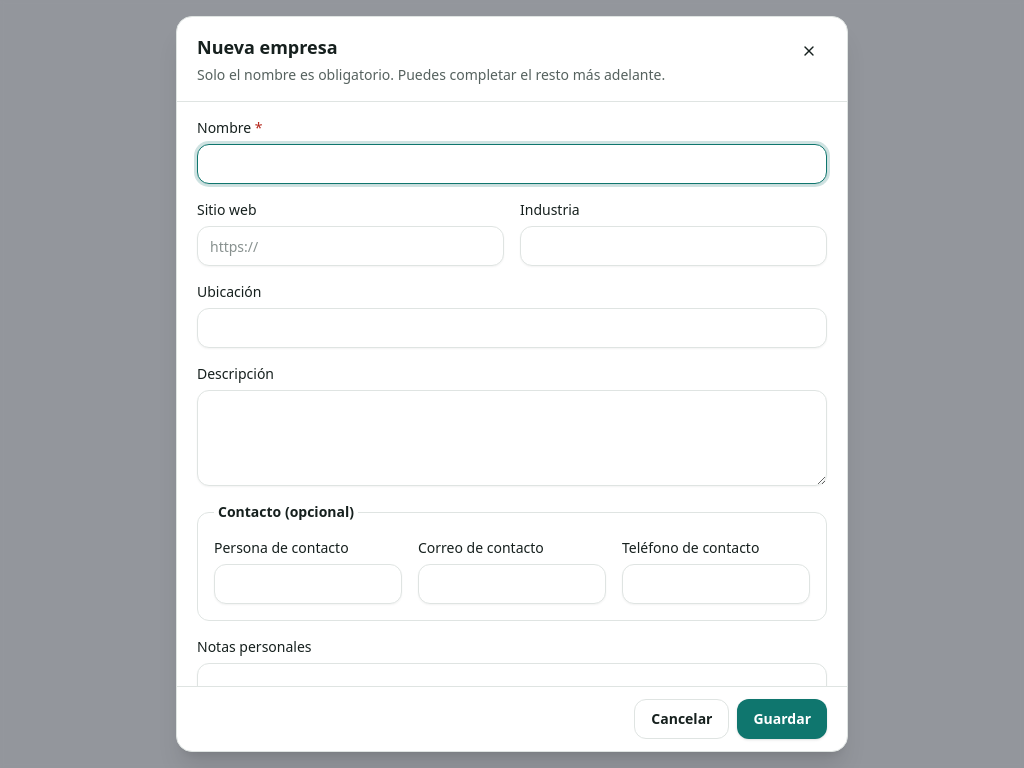
Scenario: company form › shows a duplicate name returned by the API on the name field
Type "Acme" into the field labelled "Nombre *".
click(512, 164); type("Acme")  # box left=197, top=144, right=827, bottom=184
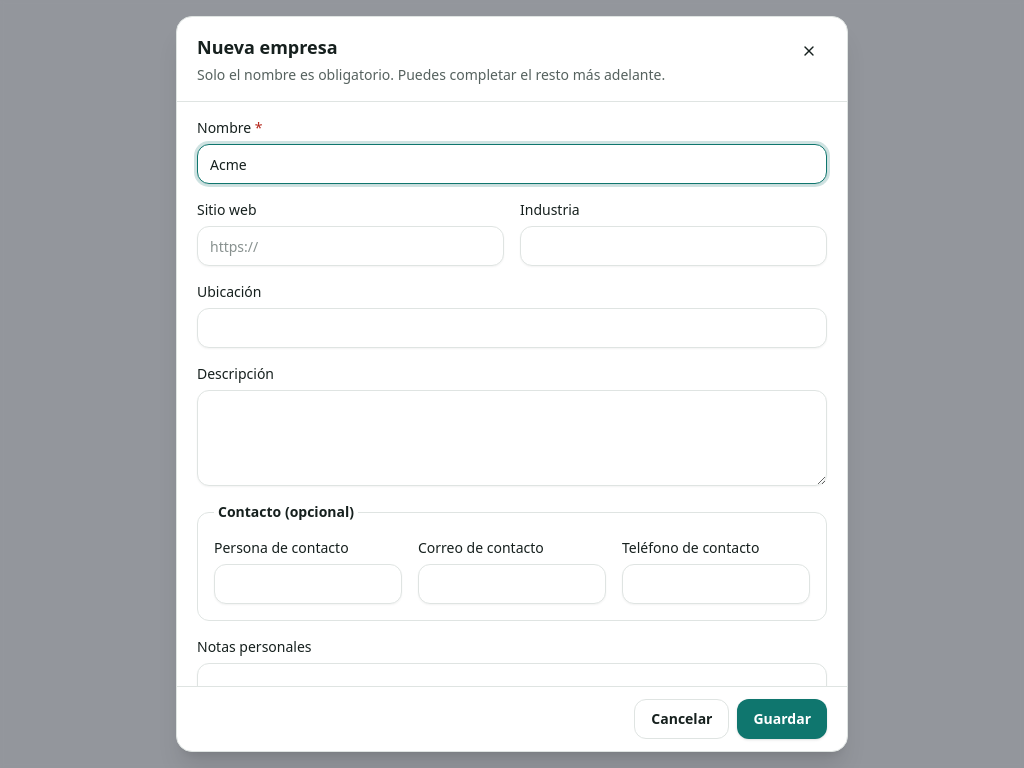
Click the button "Guardar".
click(782, 719)  # box left=738, top=699, right=827, bottom=739
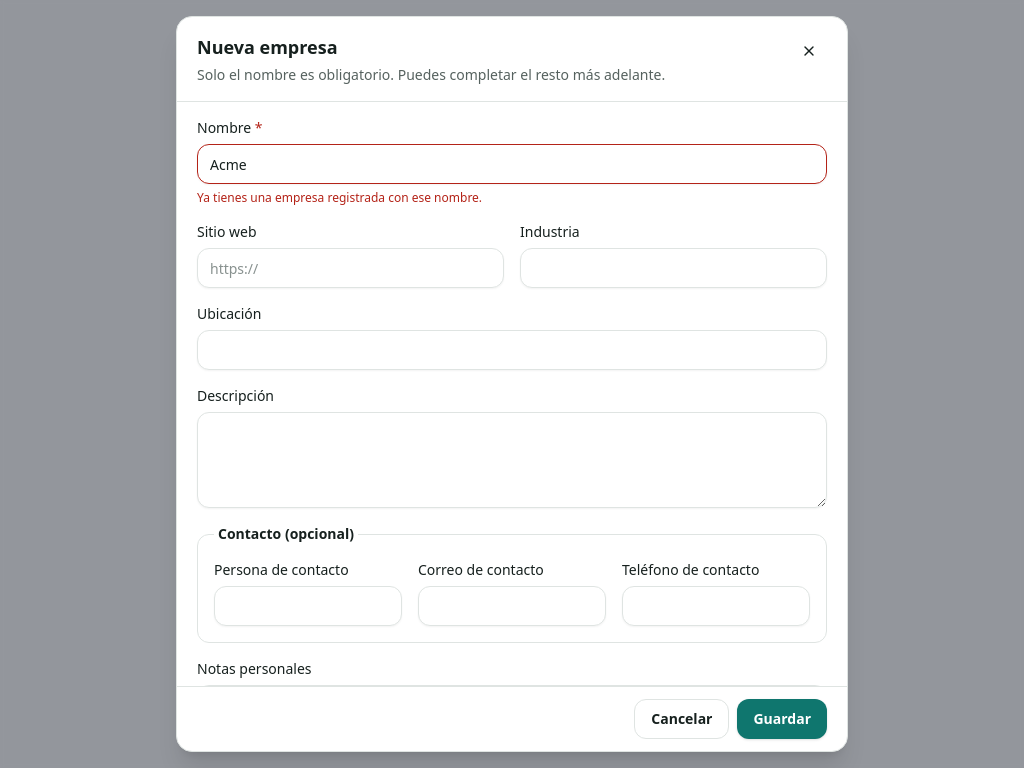
Check: the text "Ya tienes una empresa registrada con ese nombre." is shown, box left=197, top=189, right=482, bottom=206
